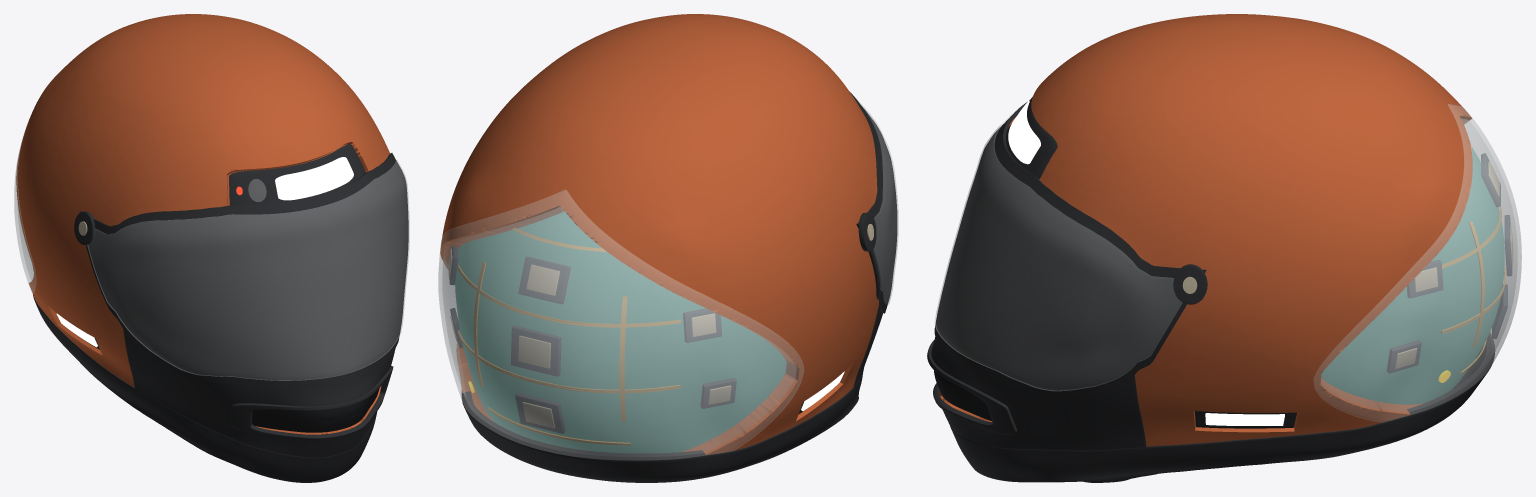
Rendered from Routing-Helmet-V4-Web.glb.
The picture shows the model from 3 angles, left to right: view 1: azimuth 30°, elevation 25°; view 2: azimuth 150°, elevation 25°; view 3: azimuth 270°, elevation 25°; orthographic projection. The views are drawn at different scales.
Visible parts, largest first — view 1: Helmet shell, Visor frame, Visor, Chin module, Base trim, Forehead module housing, Chin grille, Chin intake bezel, Forehead lamp lens, Rear compute panel, L visor pivot; view 2: Helmet shell, Rear compute panel, Rear compute board, Base trim, Visor frame, Visor, ASIC 2, ASIC 1, Rear trace 1, Rear trace 2, ASIC 3, ASIC 2 lid (+9 smaller); view 3: Helmet shell, Visor frame, Visor, Rear compute panel, Rear compute board, Base trim, Chin module, Chin intake bezel, Forehead module housing, Forehead lamp lens, Chin grille, R side marker (+2 smaller).
Part boxes in pixels (x1,y1,x2,y2): Helmet shell: [16, 14, 389, 434]; Visor frame: [79, 153, 408, 387]; Visor: [87, 160, 409, 380]; Chin module: [123, 328, 395, 457]; Base trim: [33, 295, 377, 482]; Forehead module housing: [229, 144, 365, 205]; Chin grille: [252, 387, 379, 432]; Chin intake bezel: [230, 366, 393, 440]; Forehead lamp lens: [275, 157, 353, 200]; Rear compute panel: [14, 120, 36, 293]; L visor pivot: [74, 211, 94, 244]; Helmet shell: [440, 14, 878, 454]; Rear compute panel: [438, 190, 804, 459]; Rear compute board: [455, 211, 786, 453]; Base trim: [461, 368, 863, 482]; Visor frame: [849, 91, 897, 313]; Visor: [855, 97, 898, 304]; ASIC 2: [510, 325, 561, 376]; ASIC 1: [518, 256, 570, 304]; Rear trace 1: [457, 265, 680, 327]; Rear trace 2: [458, 330, 680, 393]; ASIC 3: [515, 392, 565, 433]; ASIC 2 lid: [518, 335, 550, 368]; Helmet shell: [938, 14, 1472, 446]; Visor frame: [934, 100, 1206, 398]; Visor: [934, 113, 1181, 391]; Rear compute panel: [1313, 104, 1521, 422]; Rear compute board: [1321, 147, 1504, 404]; Base trim: [950, 333, 1494, 482]; Chin module: [931, 337, 1146, 450]; Chin intake bezel: [927, 340, 1017, 434]; Forehead module housing: [1006, 97, 1057, 178]; Forehead lamp lens: [1008, 101, 1040, 164]; Chin grille: [934, 370, 991, 420]; R side marker: [1205, 413, 1284, 425].
Bounding box in the file's own units: 0.2483 × 0.2762 × 0.3502.
